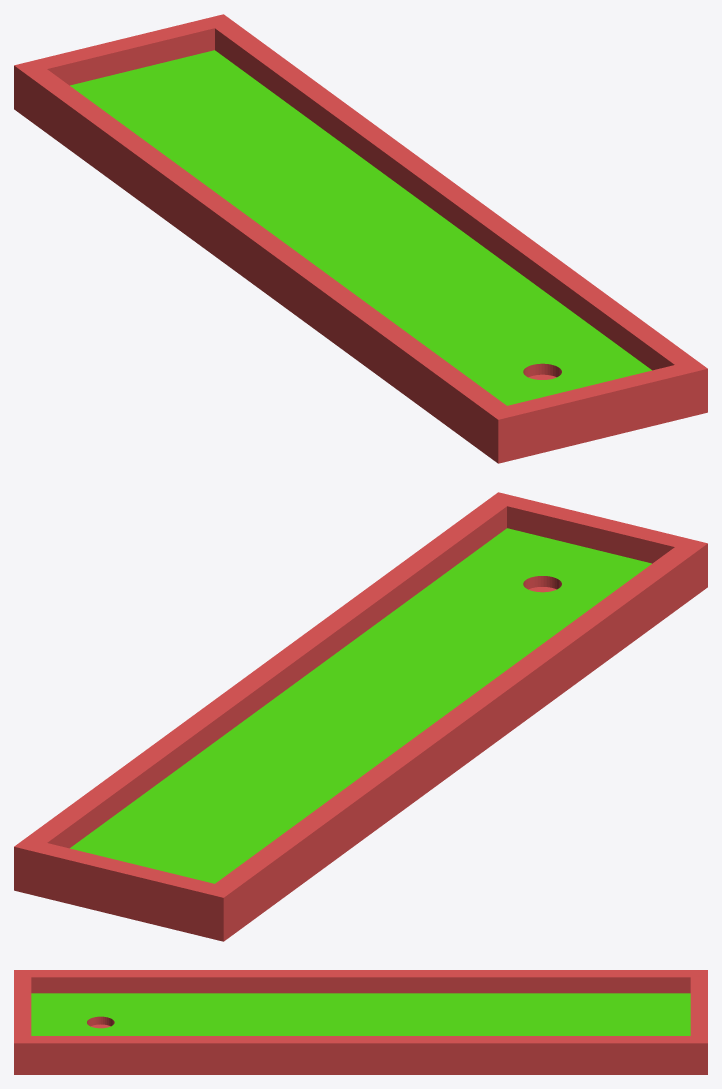
File: Course1.glb
The picture shows the model from 3 angles, top to bottom: view 1: azimuth 30°, elevation 25°; view 2: azimuth 150°, elevation 25°; view 3: azimuth 270°, elevation 25°; orthographic projection. The views are drawn at different scales.
Parts seen in each view (by area): view 1: Cube; view 2: Cube; view 3: Cube.
Boxes of the visible parts, x1,y1,x2,y2 form: Cube: (14, 14, 707, 463); Cube: (14, 492, 707, 941); Cube: (14, 970, 707, 1074).
Bounding box in the file's own units: 1 × 0.2 × 4.
